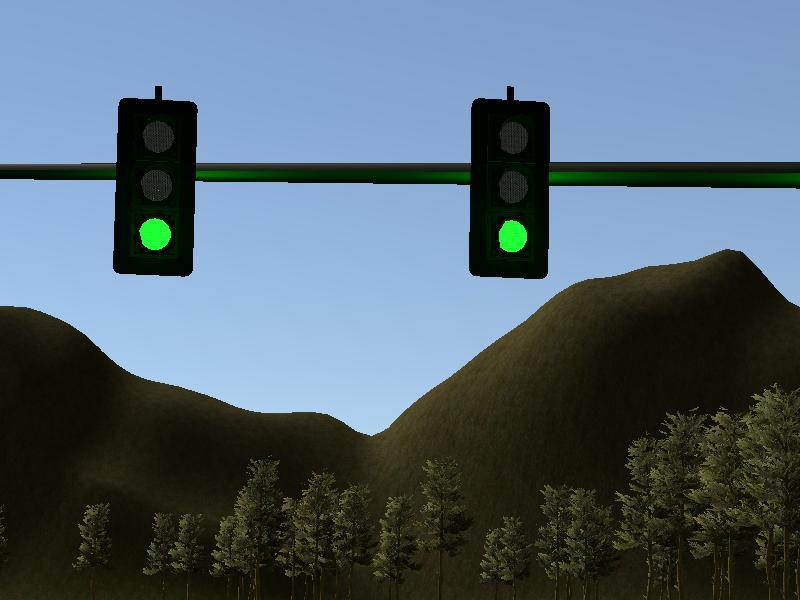Green: (474, 98, 545, 277), (120, 98, 192, 273)
